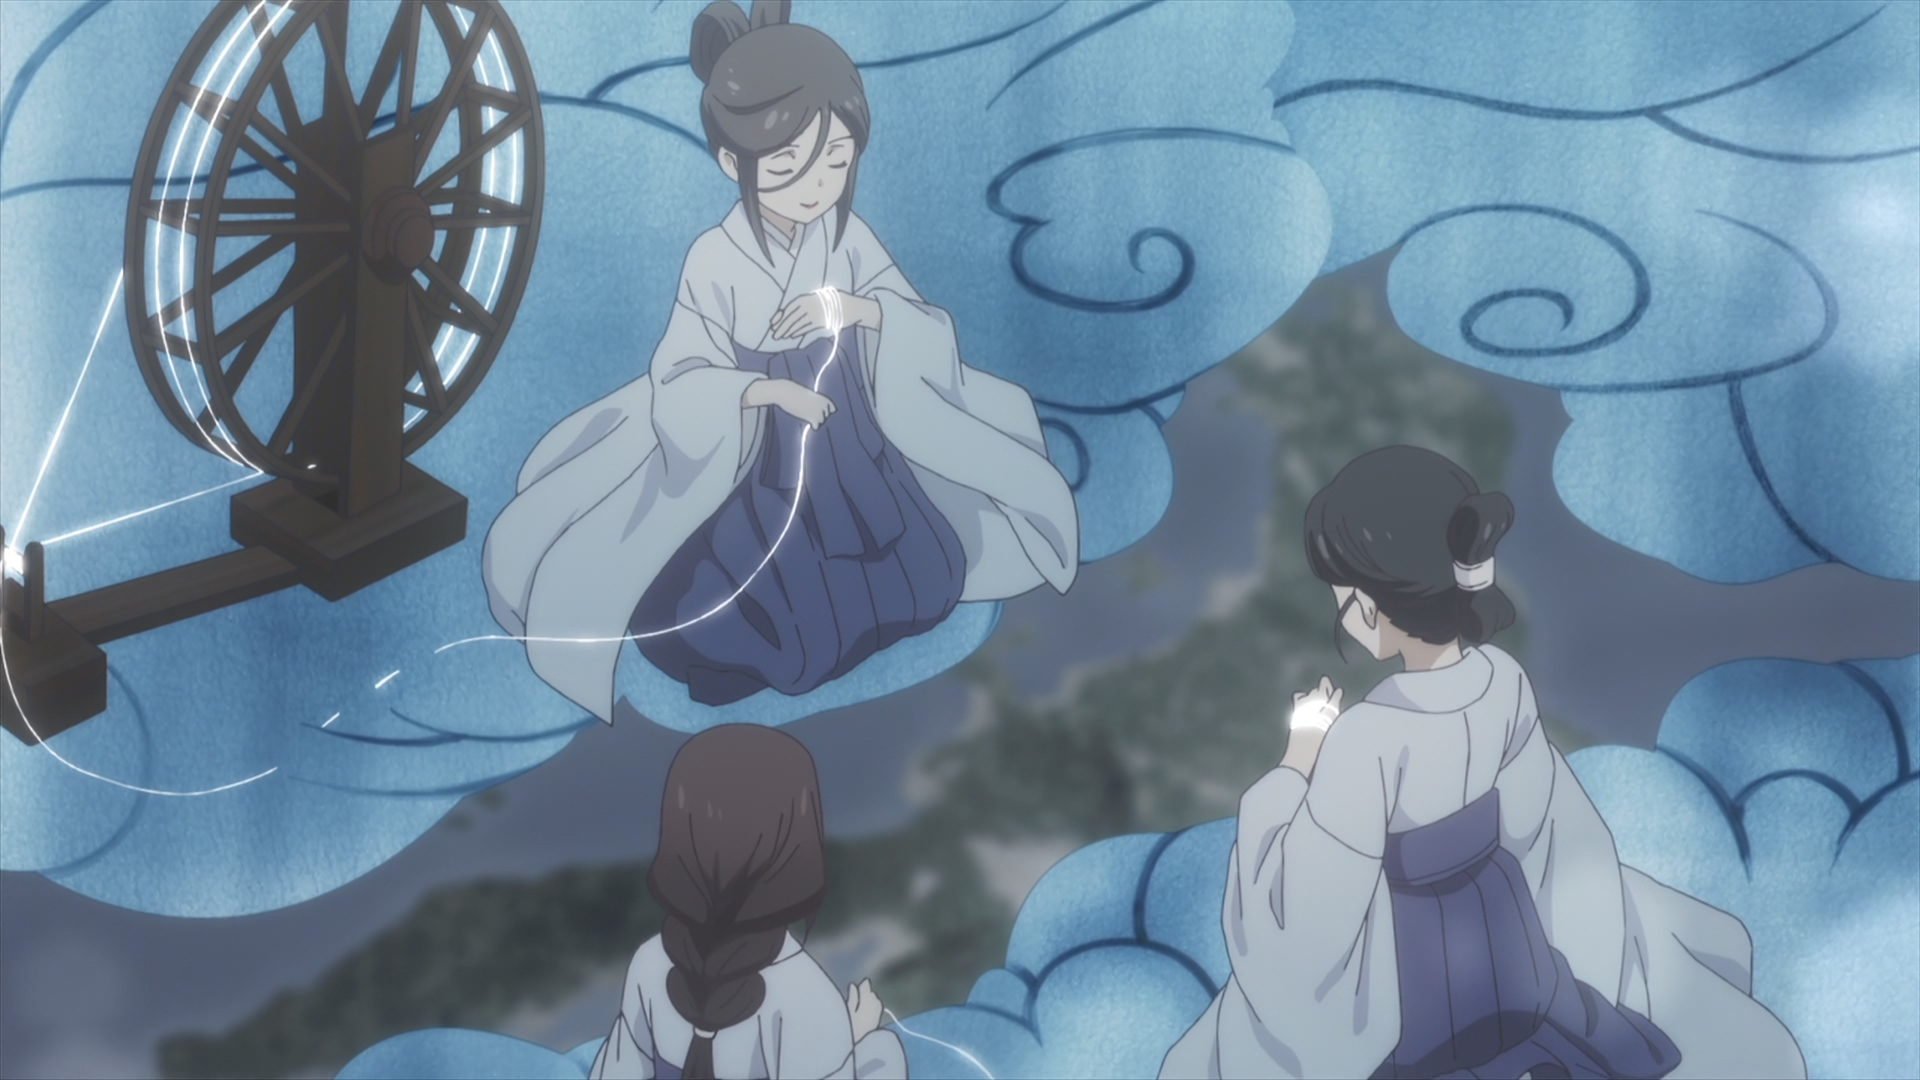其他: (477, 1, 1077, 725), (1160, 448, 1808, 1080), (585, 725, 909, 1080)
